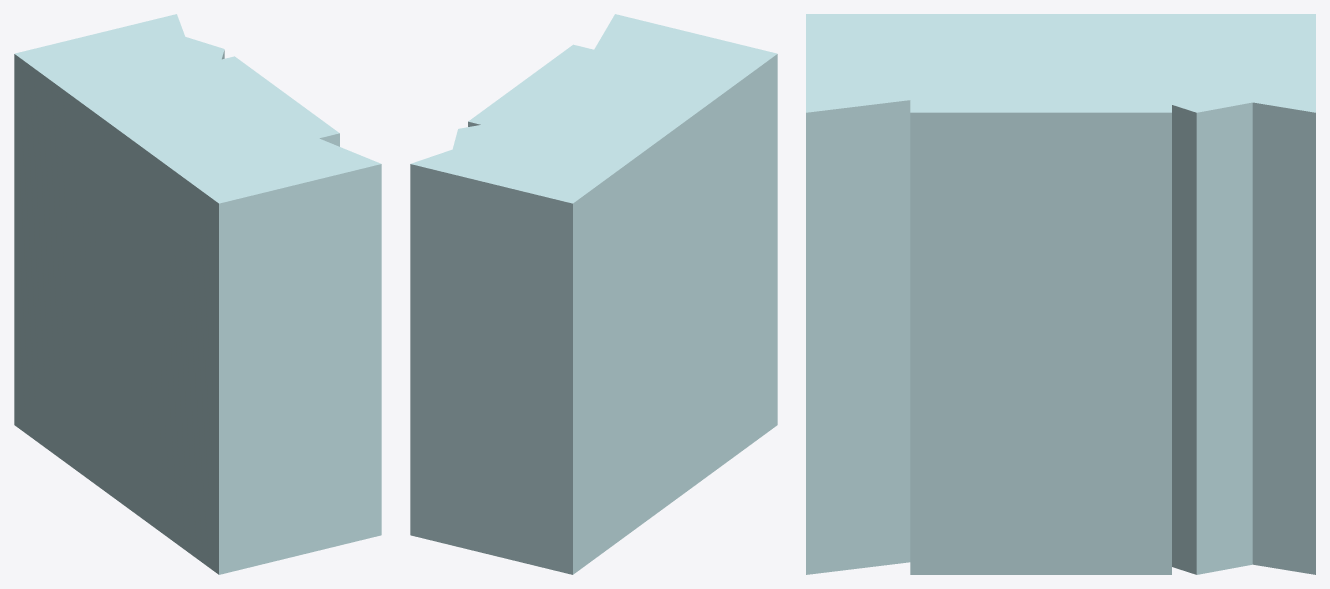
File: cliffGrey_waterfallMid.fbx
3 renders of one model, left to right at view 1: azimuth 30°, elevation 25°; view 2: azimuth 150°, elevation 25°; view 3: azimuth 270°, elevation 25°, orthographic. The views are drawn at different scales.
Parts seen in each view (by area): view 1: cliffGrey_waterfallMid; view 2: cliffGrey_waterfallMid; view 3: cliffGrey_waterfallMid.
Boxes of the visible parts, box(x1,y1,x2,y2) form: cliffGrey_waterfallMid: box(14, 14, 381, 574); cliffGrey_waterfallMid: box(410, 14, 777, 574); cliffGrey_waterfallMid: box(806, 14, 1315, 574).
Bounding box in the file's own units: 138 × 300 × 300.
